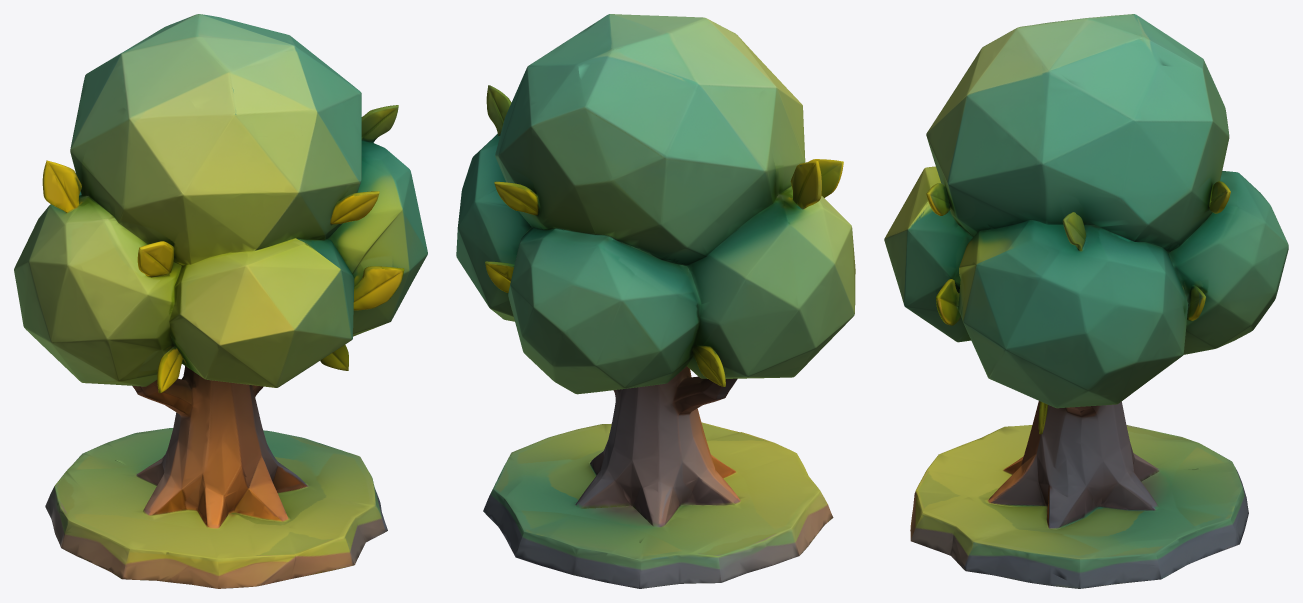
3 views of the same model, side by side, from view 1: azimuth 30°, elevation 25°; view 2: azimuth 150°, elevation 25°; view 3: azimuth 270°, elevation 25° (orthographic).
Visible parts, largest first — view 1: node_0; view 2: node_0; view 3: node_0.
Boxes of the visible parts, <box> form: node_0: <box>14,14,427,588</box>; node_0: <box>456,14,855,588</box>; node_0: <box>884,14,1288,588</box>.
Bounding box in the file's own units: 0.7958 × 0.99 × 0.7433.
1 material, 1 textured.
